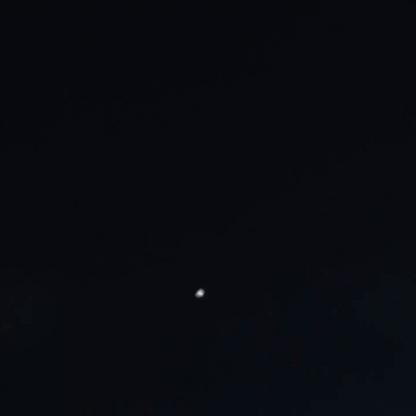ball: (191, 281, 207, 299)
